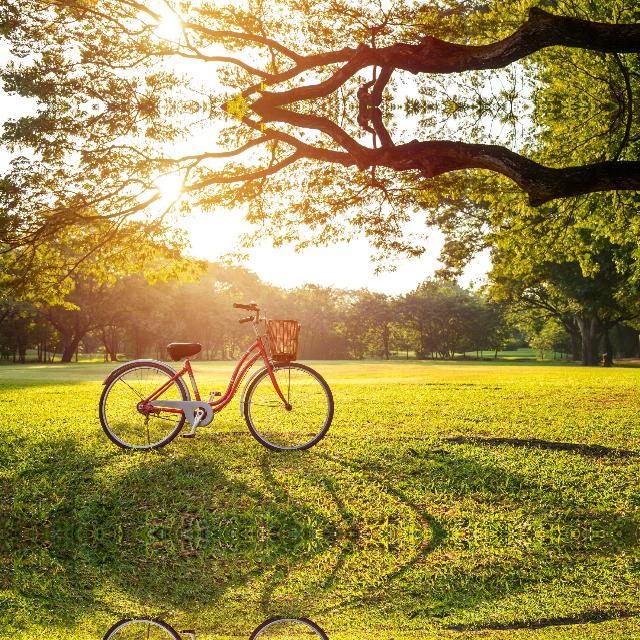obstacle: (95, 295, 333, 457), (95, 610, 333, 640)
